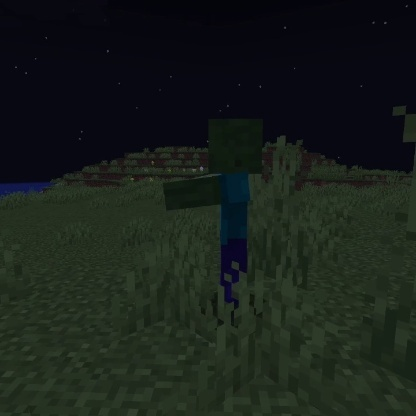zombie: (159, 112, 269, 327)
